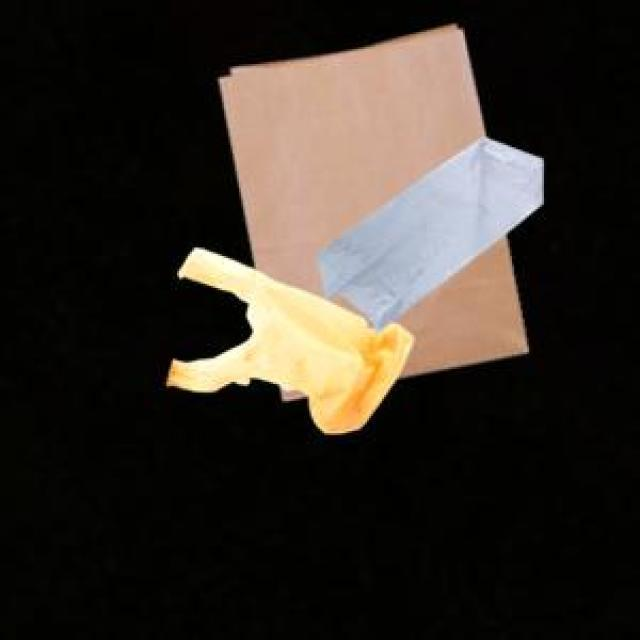paper: (216, 21, 523, 397)
